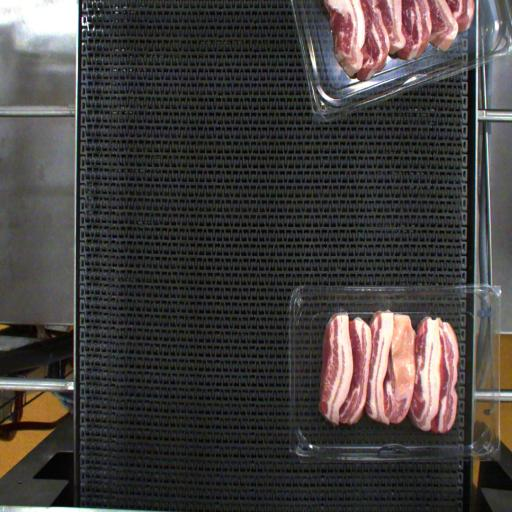twisted-meat: (386, 312, 416, 420)
